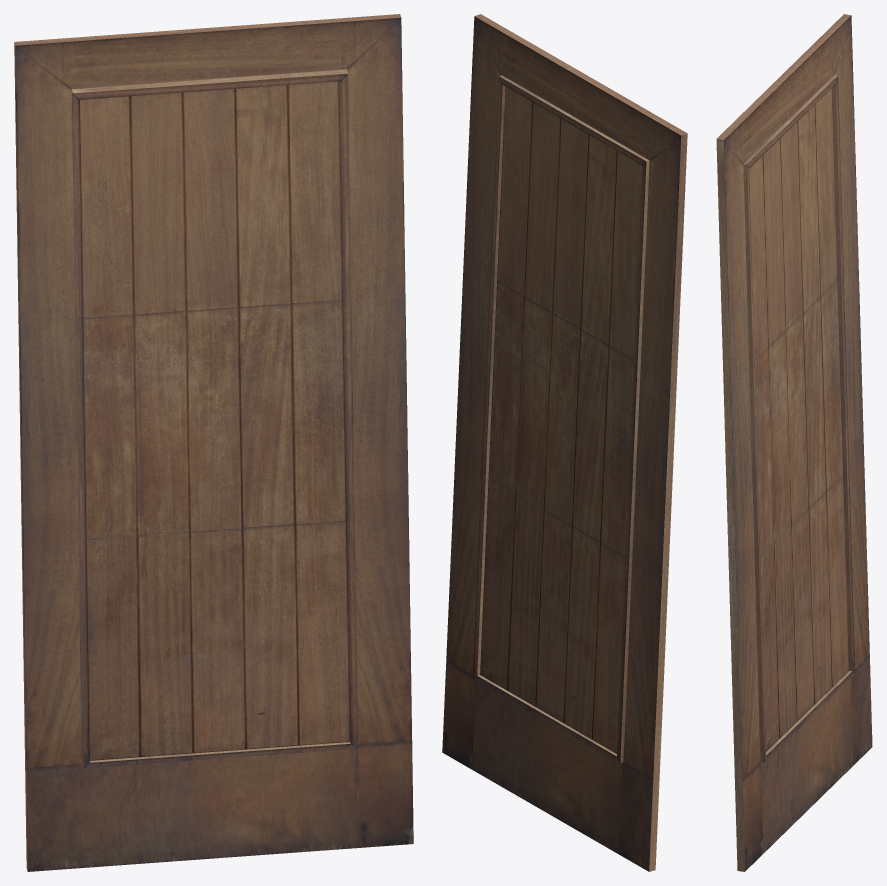
The model's file is door bit.glb.
3 renders of one model, left to right at view 1: azimuth 30°, elevation 25°; view 2: azimuth 150°, elevation 25°; view 3: azimuth 270°, elevation 25°, orthographic. The views are drawn at different scales.
Visible parts, largest first — view 1: Door_MAT_Door_0; view 2: Door_MAT_Door_0; view 3: Door_MAT_Door_0.
Boxes of the visible parts, x1=… form: Door_MAT_Door_0: x1=14, y1=14, x2=413, y2=871; Door_MAT_Door_0: x1=442, y1=14, x2=687, y2=871; Door_MAT_Door_0: x1=716, y1=14, x2=872, y2=871.
Bounding box in the file's own units: 0.3735 × 0.8922 × 0.1735.
1 material, 1 textured.
